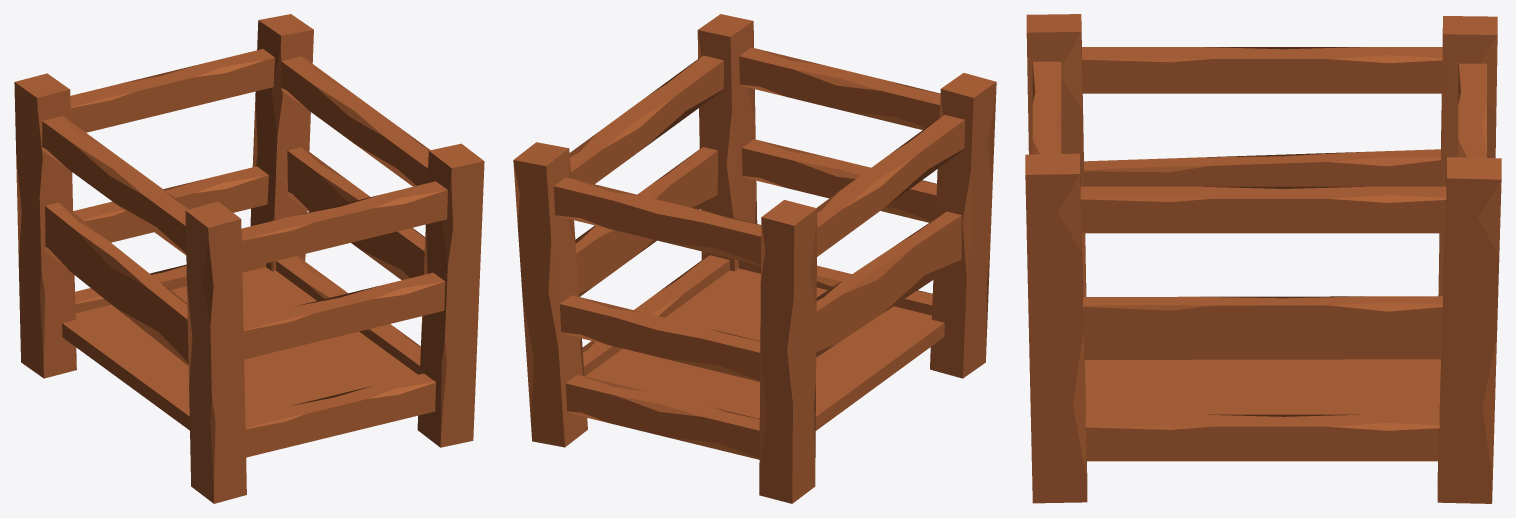
File: basket.fbx
3 views of the same model, side by side, from view 1: azimuth 30°, elevation 25°; view 2: azimuth 150°, elevation 25°; view 3: azimuth 270°, elevation 25° (orthographic). The views are drawn at different scales.
Visible parts, largest first — view 1: 立方体.033; view 2: 立方体.033; view 3: 立方体.033.
Boxes of the visible parts, x1=… form: 立方体.033: x1=14, y1=14, x2=484, y2=503; 立方体.033: x1=513, y1=14, x2=996, y2=503; 立方体.033: x1=1025, y1=14, x2=1501, y2=503.
Size of the model in its own units: 571 by 465 by 445.
